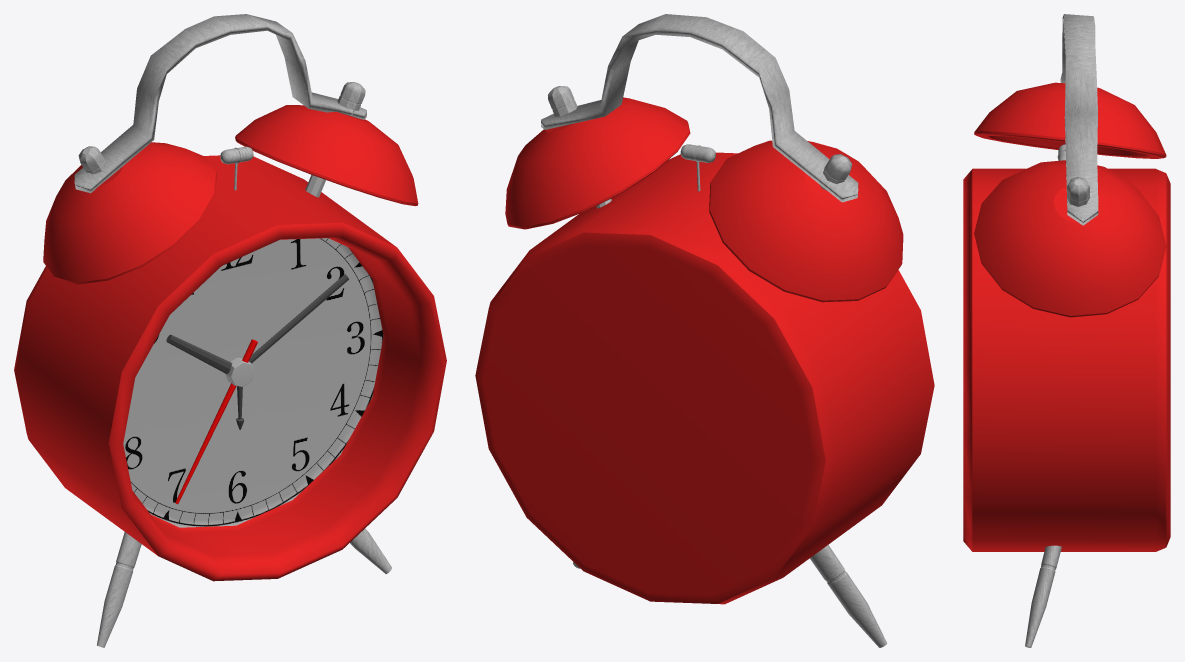
Rendered from SM_Alarm.fbx.
3 views of the same model, side by side, from view 1: azimuth 30°, elevation 25°; view 2: azimuth 150°, elevation 25°; view 3: azimuth 270°, elevation 25° (orthographic). The views are drawn at different scales.
Visible parts, largest first — view 1: SM_Alarm; view 2: SM_Alarm; view 3: SM_Alarm.
Boxes of the visible parts, x1,y1,x2,y2 form: SM_Alarm: (14,14,446,647); SM_Alarm: (475,14,934,647); SM_Alarm: (963,14,1170,647).
Bounding box in the file's own units: 71.31 × 112 × 37.47.
